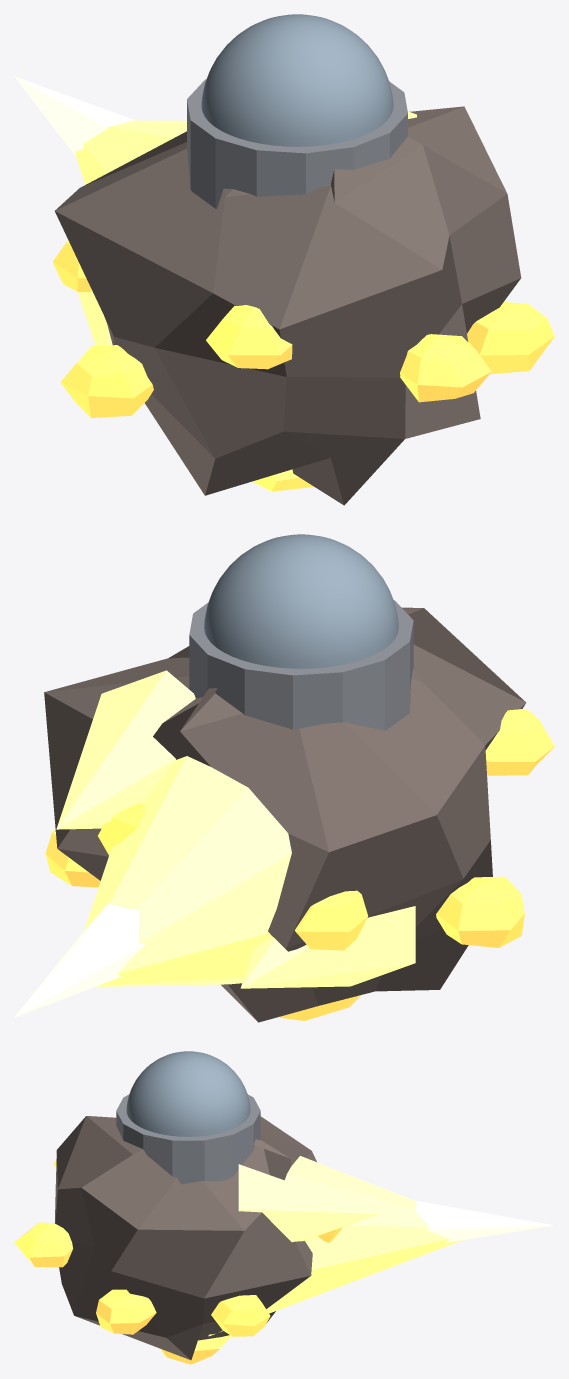
The model's file is meteor.glb.
The picture shows the model from 3 angles, top to bottom: view 1: azimuth 30°, elevation 25°; view 2: azimuth 150°, elevation 25°; view 3: azimuth 270°, elevation 25°; orthographic projection. The views are drawn at different scales.
Visible parts, largest first — view 1: meteor, dome; view 2: meteor, dome; view 3: meteor, dome.
Boxes of the visible parts, <box> form: meteor: <box>14,76,554,505</box>; dome: <box>201,14,393,146</box>; meteor: <box>14,600,554,1022</box>; dome: <box>204,534,398,668</box>; meteor: <box>14,1094,553,1364</box>; dome: <box>126,1051,250,1136</box>.
Size of the model in its own units: 3.21 by 3.24 by 5.39.
